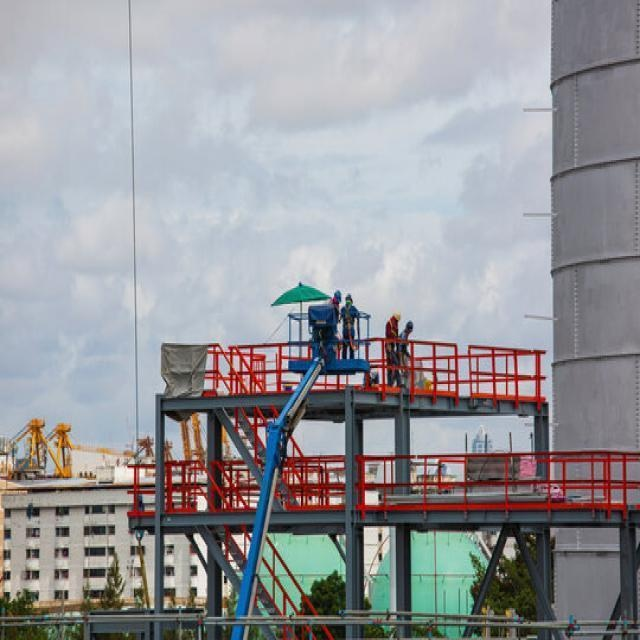Arnes_seguridad: (342, 304, 355, 340)
